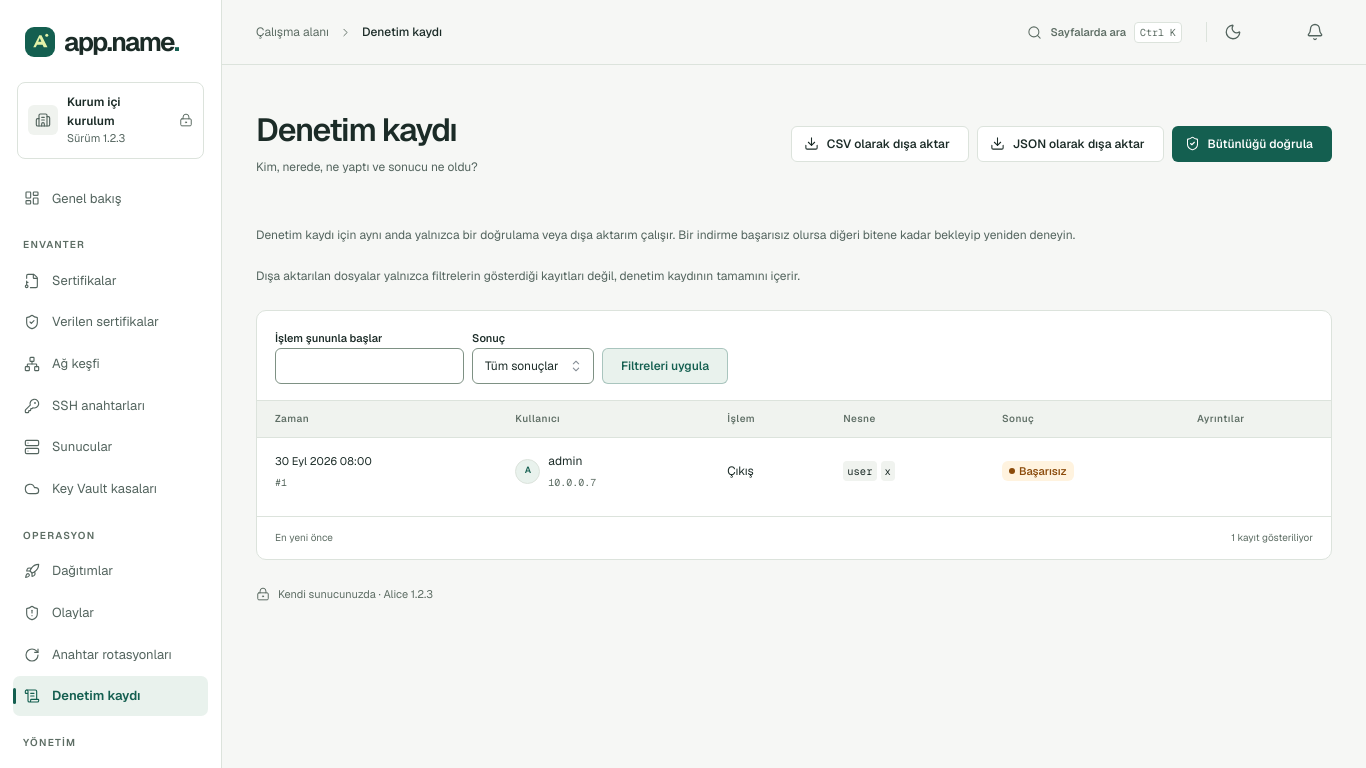
AuditPage › reports a broken chain in Turkish for an auditor
Expected: the heading "Denetim kaydı" is shown, [256, 111, 456, 149]
Click the button "Bütünlüğü doğrula".
click(1252, 144)  # box [1172, 126, 1332, 162]
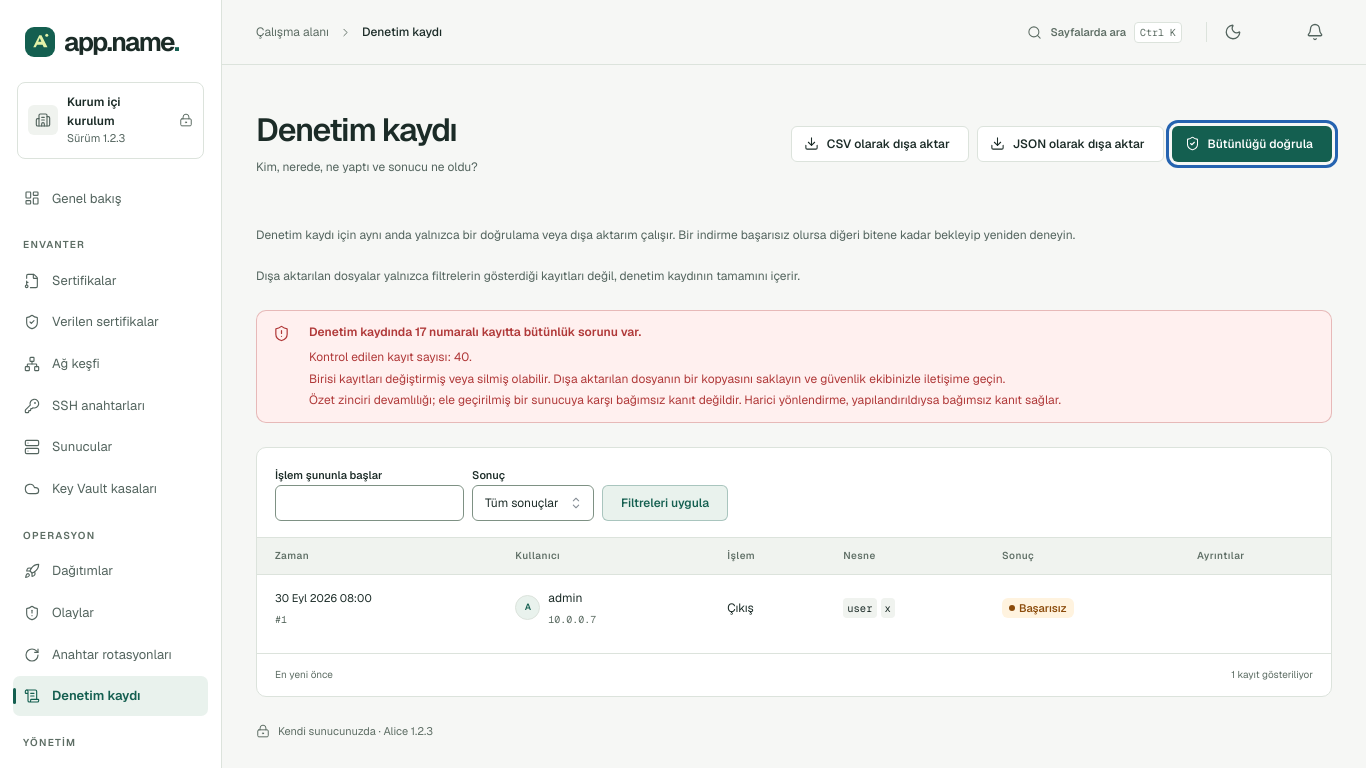
Expected: the buttons read "Bütünlüğü doğrula", "Filtreleri uygula", in this order, [1172, 126, 1332, 162]; [602, 485, 728, 521]
Expected: the message shows "Denetim kaydında 17 numaralı kayıtta bütünlük sorunu var.", [309, 324, 641, 340]
